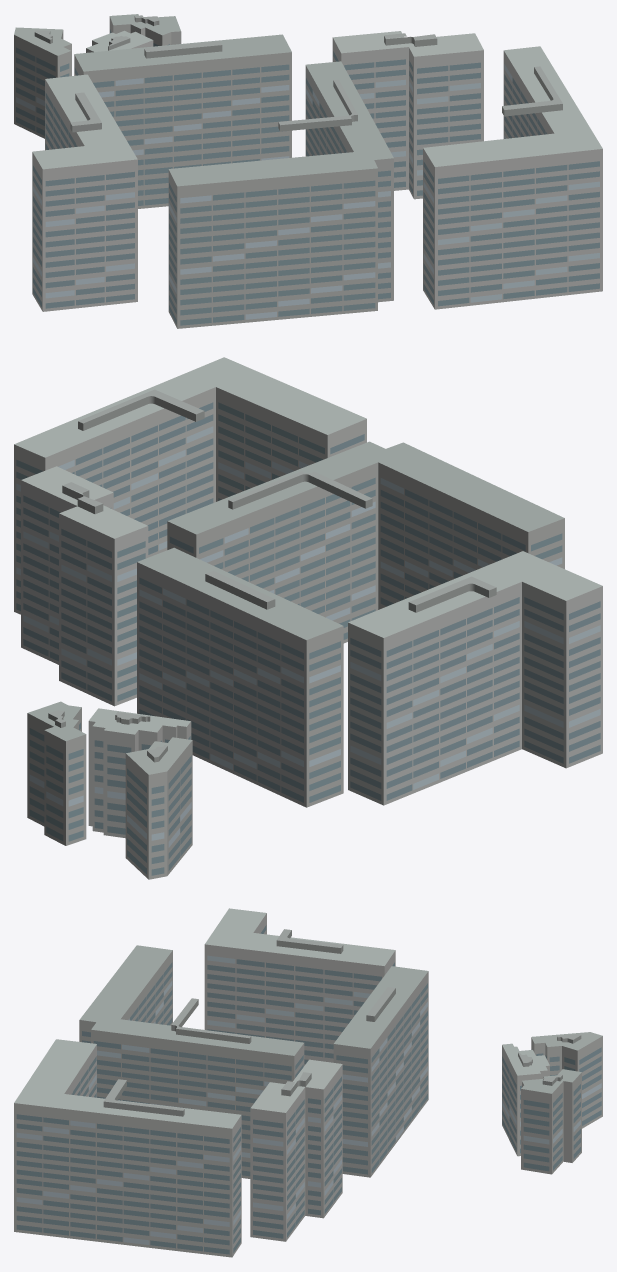
File: apt-a13204507.glb
3 views of the same model, one above another, from view 1: azimuth 30°, elevation 25°; view 2: azimuth 150°, elevation 25°; view 3: azimuth 270°, elevation 25° (orthographic). The views are drawn at different scales.
Visible parts, largest first — view 1: apt-a13204507; view 2: apt-a13204507; view 3: apt-a13204507.
Boxes of the visible parts, box(x1,y1,x2,y2) form: apt-a13204507: box(14, 14, 602, 328); apt-a13204507: box(14, 357, 602, 879); apt-a13204507: box(14, 908, 602, 1257).
Bounding box in the file's own units: 157 × 44.62 × 177.
